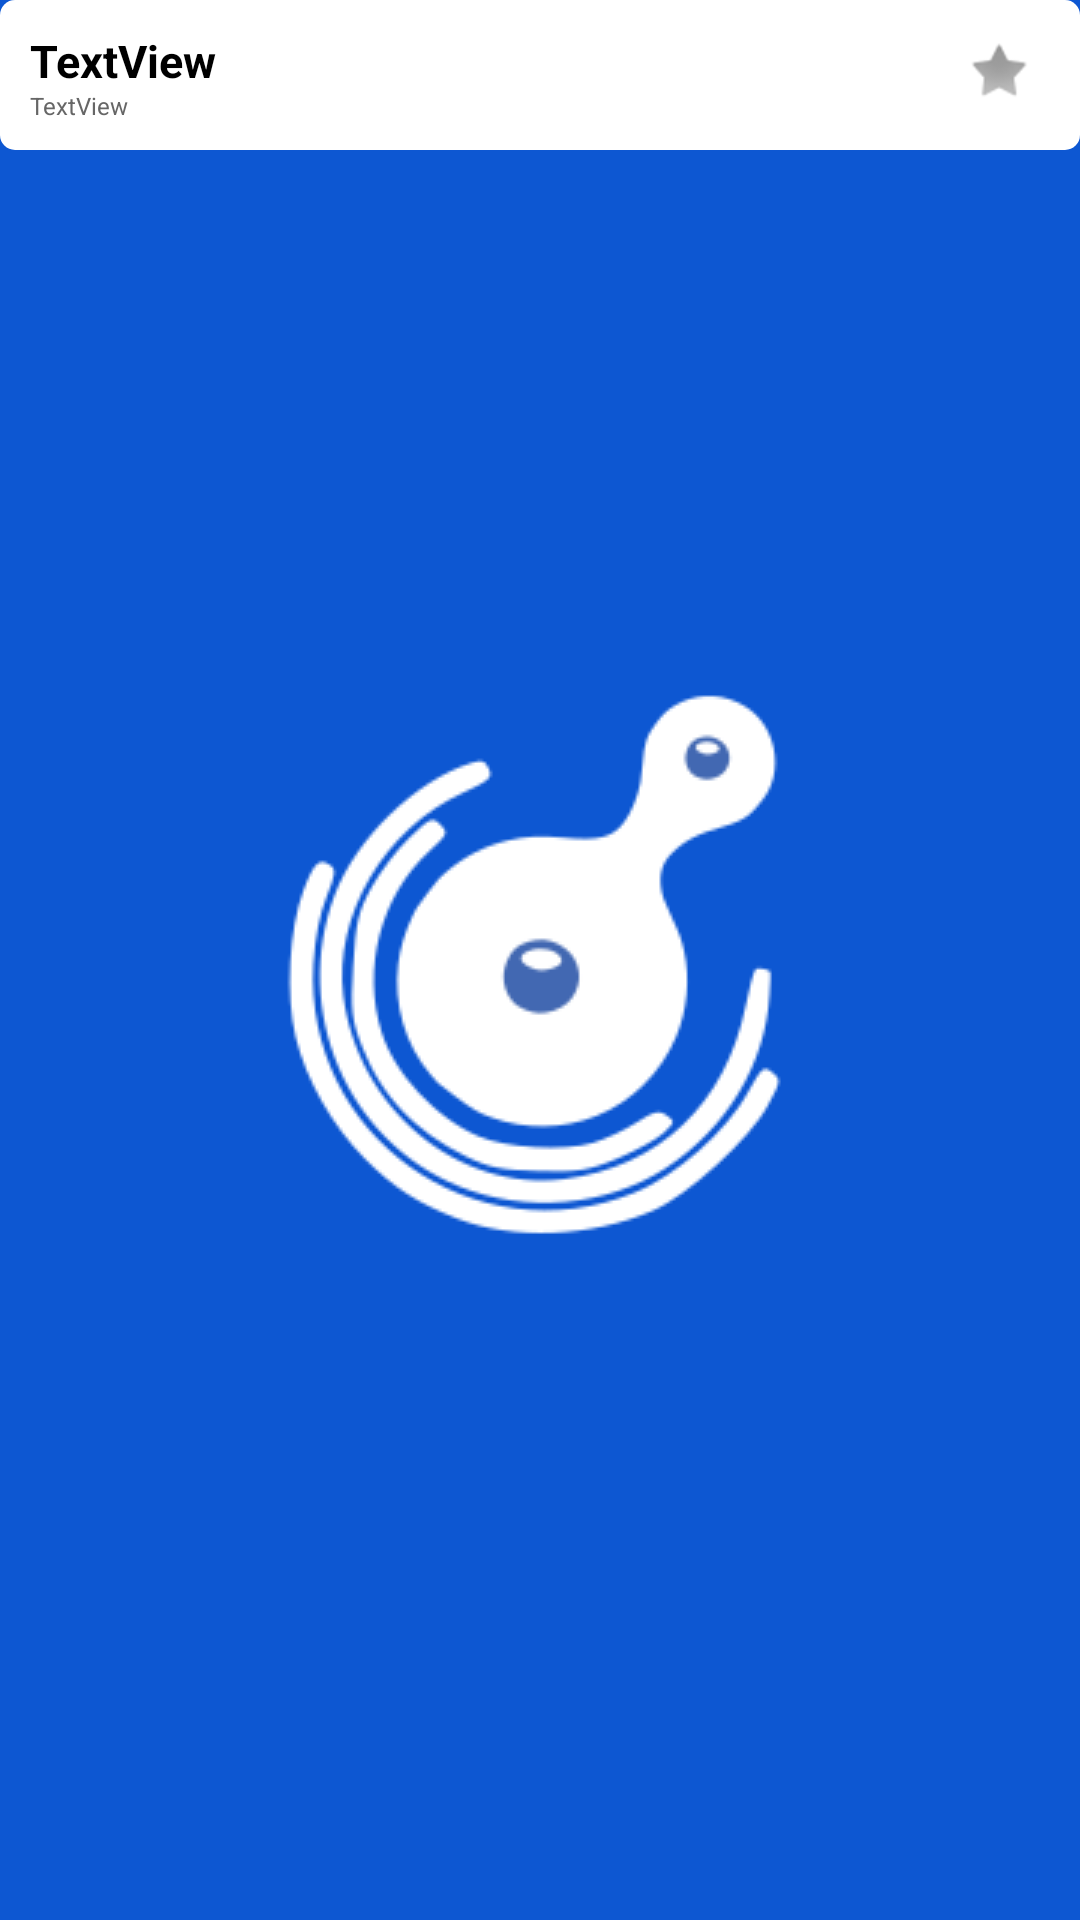

Where icons sit on this 1080px x 1920px app screen, as (x1, y1, x2, y2):
star off: (973, 44, 1026, 95)
